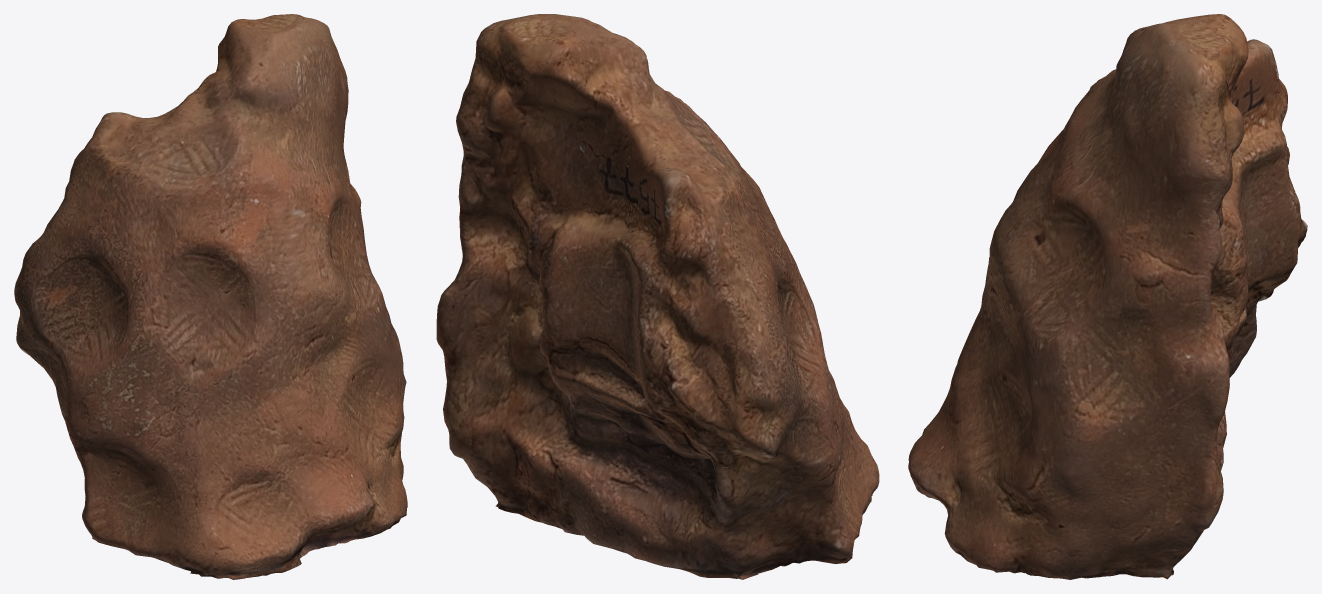
The model's file is Kapaki5.fbx.
3 views of the same model, side by side, from view 1: azimuth 30°, elevation 25°; view 2: azimuth 150°, elevation 25°; view 3: azimuth 270°, elevation 25° (orthographic). The views are drawn at different scales.
Visible parts, largest first — view 1: Kapaki5-7577-video; view 2: Kapaki5-7577-video; view 3: Kapaki5-7577-video.
Boxes of the visible parts, x1,y1,x2,y2 form: Kapaki5-7577-video: (14,14,407,579); Kapaki5-7577-video: (436,14,879,579); Kapaki5-7577-video: (908,14,1307,579).
Bounding box in the file's own units: 4.13 × 3.85 × 5.5.
1 material, 1 textured.
